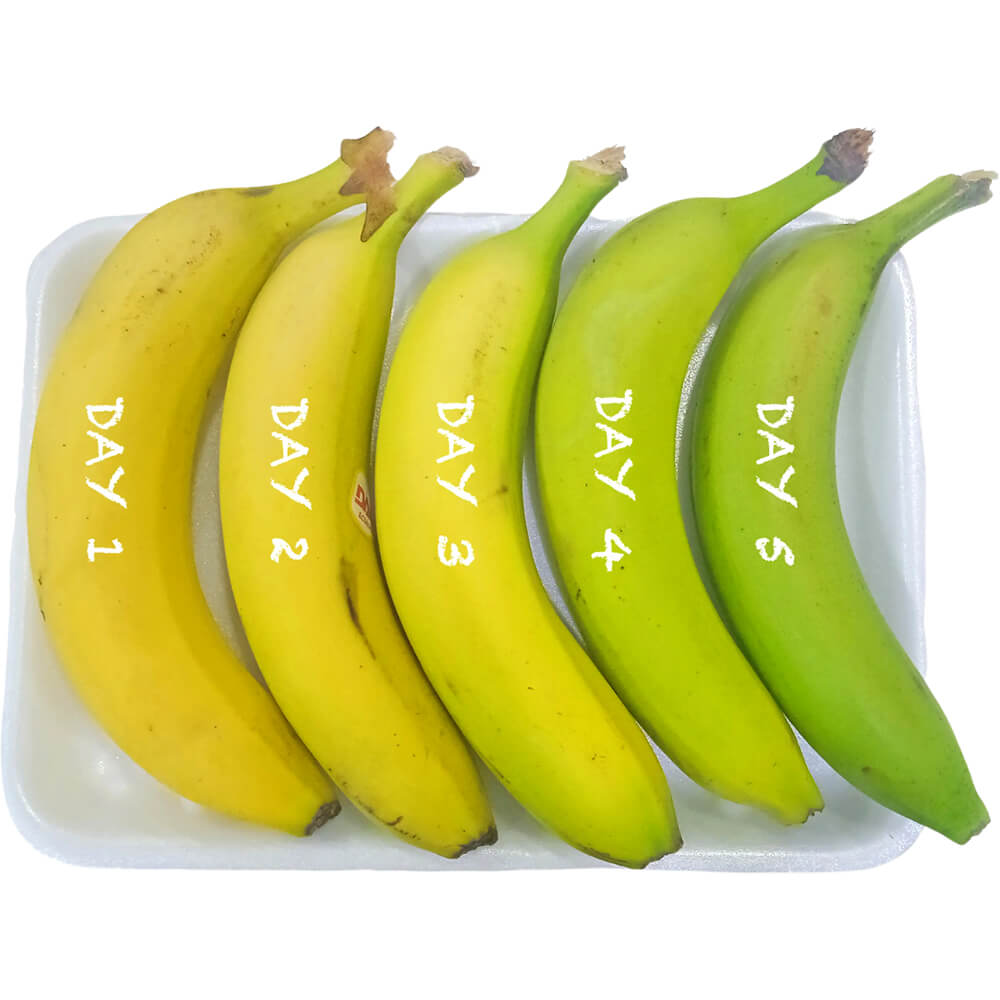banana: (39, 89, 1000, 902)
